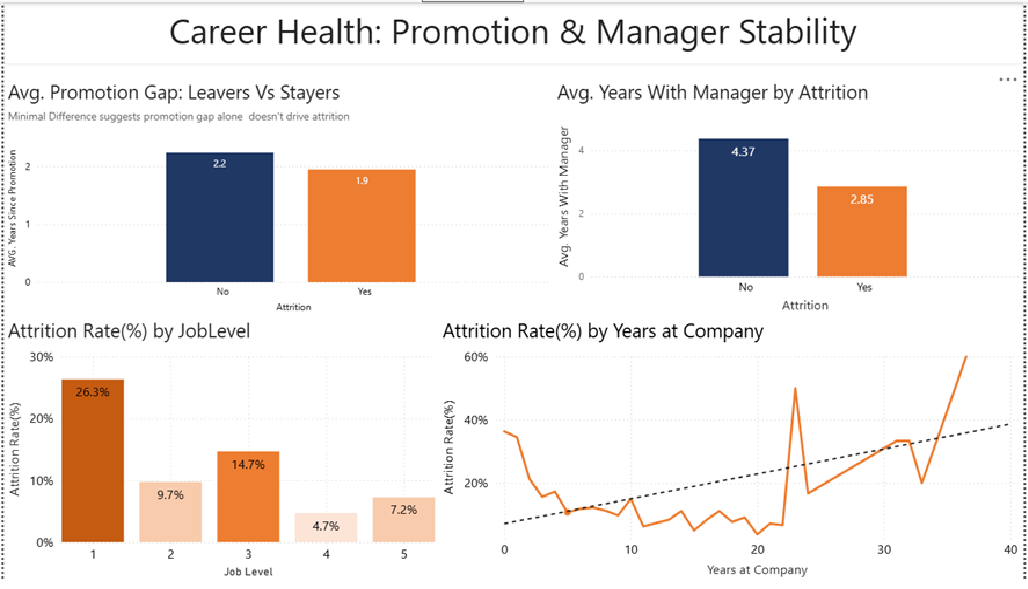

Layout of this report page (visuals, bound fields, positions):
{"tool":"powerbi","page":{"name":"Career Health","canvas":[1280,720],"ordinal":3},"visuals":[{"type":"clusteredColumnChart","title":"Avg. Promotion Gap: Leavers Vs Stayers","fields":{"Category":["HR_cleaned.Attrition"],"Y":["Avg(HR_cleaned.YearsSinceLastPromotion)"]},"box":[0,94.5,689.8,296.7],"z":0},{"type":"clusteredColumnChart","title":"Avg. Years With Manager by Attrition","fields":{"Category":["HR_cleaned.Attrition"],"Y":["Avg(HR_cleaned.YearsWithCurrManager)"]},"box":[689.8,94.5,589.6,296.7],"z":1000},{"type":"textbox","box":[0,0,1279.4,77.5],"z":2000},{"type":"clusteredColumnChart","fields":{"Category":["HR_cleaned.JobLevel"],"Y":["HR_cleaned.Attrition Rate(%)"]},"box":[0,391.2,546.1,328.8],"z":3000},{"type":"lineChart","title":"Attrition Rate(%) by Years at Company","fields":{"Category":["HR_cleaned.YearsAtCompany"],"Y":["HR_cleaned.Attrition Rate(%)"]},"box":[546.1,391.2,733.2,328.8],"z":4000}]}

Visuals, with their boxes in screenshot pixels (x1, y1, x2, y2), scaled from the page's 1280x720 canvas onto the 1028x589 screenshot:
"Avg. Promotion Gap: Leavers Vs Stayers" clusteredColumnChart: l=0, t=77, r=554, b=320
"Avg. Years With Manager by Attrition" clusteredColumnChart: l=554, t=77, r=1027, b=320
textbox: l=0, t=0, r=1027, b=63
clusteredColumnChart - HR_cleaned.JobLevel x HR_cleaned.Attrition Rate(%): l=0, t=320, r=439, b=588
"Attrition Rate(%) by Years at Company" lineChart: l=439, t=320, r=1027, b=588
